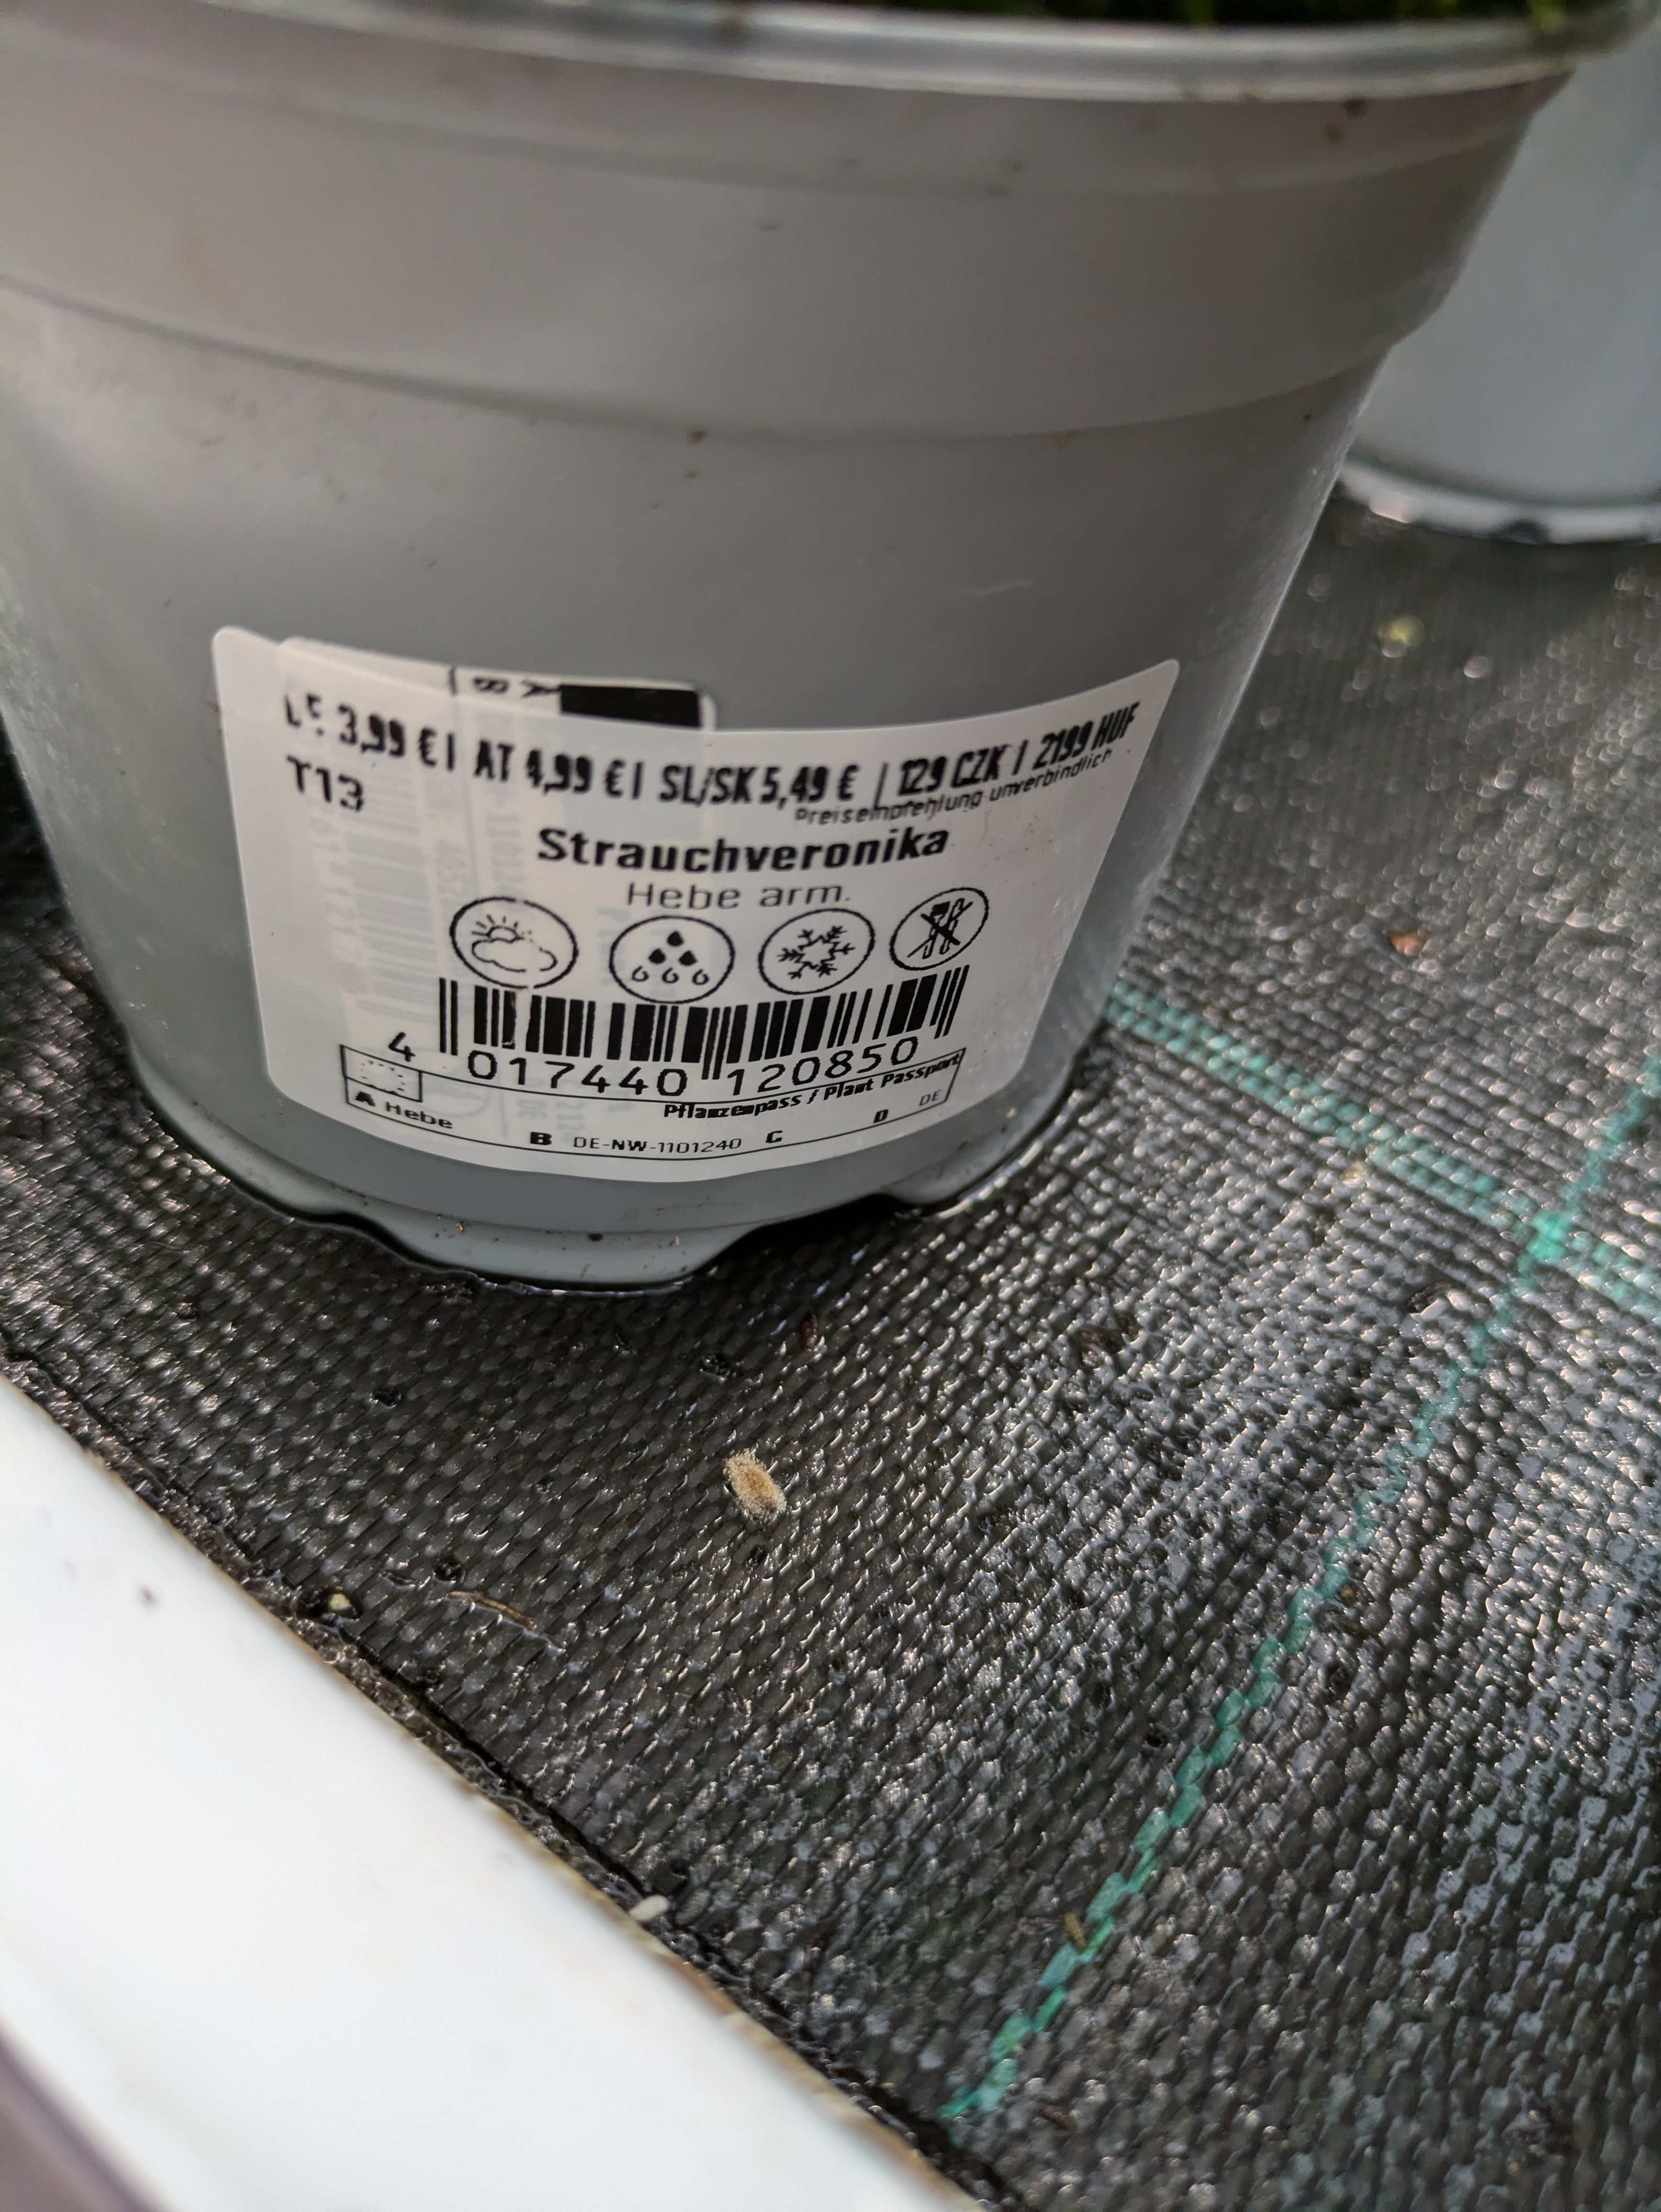halb sonnig: (434, 855, 583, 991)
mittel oft gießen: (604, 900, 736, 1001)
